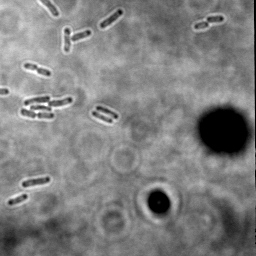Dividing: (21, 61, 53, 78)
Microcolony: (20, 95, 74, 121)
Rod: (98, 8, 124, 30), (94, 103, 120, 121), (20, 175, 52, 188), (89, 110, 114, 125), (70, 28, 93, 44), (61, 26, 73, 55), (7, 193, 28, 207), (205, 14, 224, 24), (193, 20, 210, 31)
